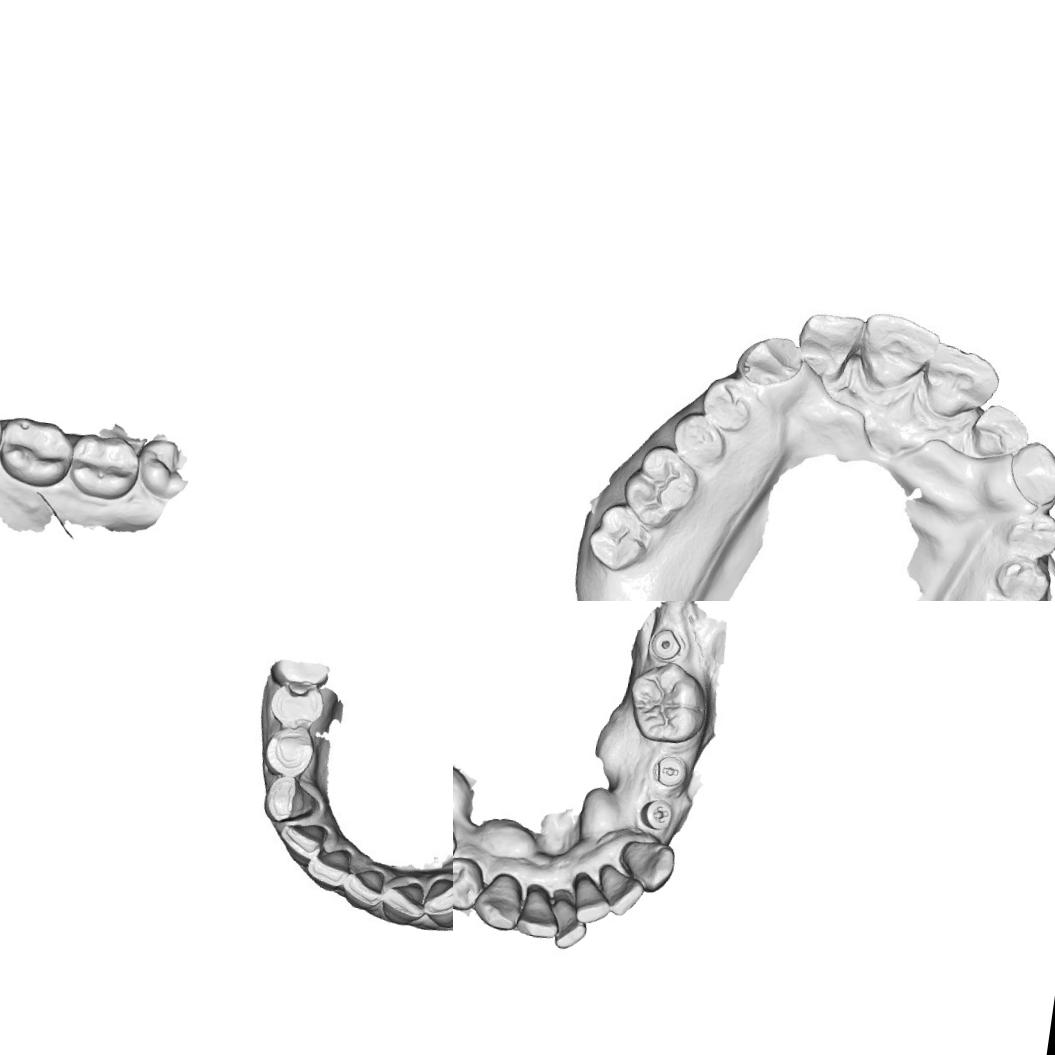canine: (732, 326, 804, 389), (615, 834, 679, 898), (469, 867, 528, 934), (1003, 435, 1055, 510), (258, 772, 321, 826), (420, 872, 453, 928)
implant: (647, 625, 684, 664)
implant_minus: (648, 750, 694, 793)
implant_plus: (636, 793, 680, 834)
incisor: (913, 336, 1004, 424), (852, 309, 944, 395), (792, 305, 866, 384), (968, 398, 1034, 462), (511, 880, 568, 942), (592, 861, 650, 920), (544, 892, 592, 953), (566, 872, 614, 929), (278, 819, 331, 866), (380, 876, 424, 926), (342, 863, 384, 914), (307, 844, 352, 887)
molar: (619, 659, 716, 750), (618, 441, 703, 533), (0, 413, 78, 492), (64, 430, 144, 504), (584, 499, 658, 576)
premolar: (266, 678, 336, 739), (668, 410, 728, 472), (699, 374, 758, 436), (996, 506, 1055, 563), (262, 730, 322, 782), (992, 554, 1055, 601), (453, 849, 489, 915)
